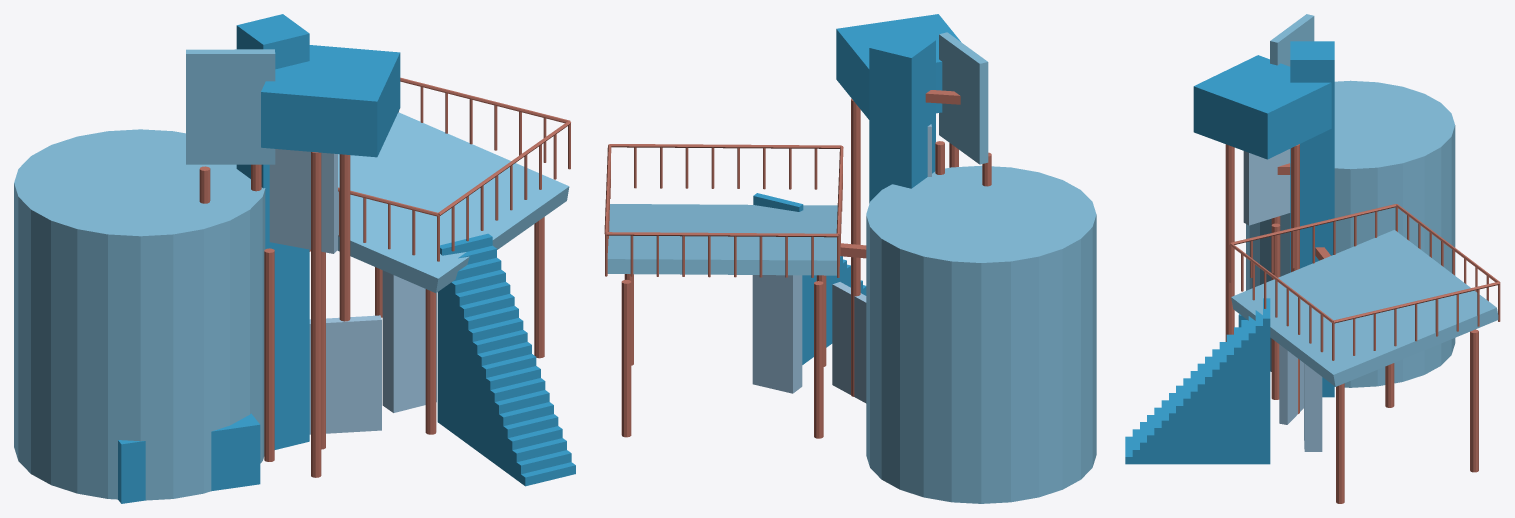
The model's file is folie_tag_031.glb.
3 renders of one model, left to right at view 1: azimuth 30°, elevation 25°; view 2: azimuth 150°, elevation 25°; view 3: azimuth 270°, elevation 25°, orthographic. The views are drawn at different scales.
Visible parts, largest first — view 1: folie_tag_031_00_drum, folie_tag_031_01_plate, folie_tag_031_stairs, folie_tag_031_line, folie_tag_031_03_block, folie_tag_031_core, folie_tag_031_05_panel, folie_tag_031_08_panel, folie_tag_031_04_fin, folie_tag_031_06_panel, folie_tag_031_02_block; view 2: folie_tag_031_00_drum, folie_tag_031_01_plate, folie_tag_031_line, folie_tag_031_core, folie_tag_031_04_fin, folie_tag_031_05_panel, folie_tag_031_03_block, folie_tag_031_08_panel, folie_tag_031_stairs; view 3: folie_tag_031_00_drum, folie_tag_031_01_plate, folie_tag_031_stairs, folie_tag_031_line, folie_tag_031_03_block, folie_tag_031_core, folie_tag_031_06_panel, folie_tag_031_04_fin, folie_tag_031_08_panel, folie_tag_031_05_panel.
Part boxes in pixels (x1,y1,x2,y2): folie_tag_031_00_drum: [14, 129, 265, 500]; folie_tag_031_01_plate: [338, 112, 569, 292]; folie_tag_031_stairs: [437, 233, 575, 486]; folie_tag_031_line: [199, 77, 570, 477]; folie_tag_031_03_block: [261, 45, 400, 157]; folie_tag_031_core: [236, 14, 309, 449]; folie_tag_031_05_panel: [186, 49, 275, 164]; folie_tag_031_08_panel: [309, 315, 381, 434]; folie_tag_031_04_fin: [382, 270, 436, 412]; folie_tag_031_06_panel: [269, 149, 337, 253]; folie_tag_031_02_block: [118, 413, 260, 503]; folie_tag_031_00_drum: [866, 165, 1096, 503]; folie_tag_031_01_plate: [607, 204, 841, 275]; folie_tag_031_line: [604, 90, 991, 438]; folie_tag_031_core: [869, 30, 935, 203]; folie_tag_031_04_fin: [752, 275, 802, 393]; folie_tag_031_05_panel: [939, 32, 988, 164]; folie_tag_031_03_block: [836, 14, 960, 119]; folie_tag_031_08_panel: [832, 282, 866, 403]; folie_tag_031_stairs: [753, 193, 866, 364]; folie_tag_031_00_drum: [1246, 80, 1455, 387]; folie_tag_031_01_plate: [1231, 230, 1498, 386]; folie_tag_031_stairs: [1125, 298, 1270, 464]; folie_tag_031_line: [1225, 144, 1500, 503]; folie_tag_031_03_block: [1193, 55, 1331, 159]; folie_tag_031_core: [1290, 41, 1334, 397]; folie_tag_031_06_panel: [1243, 149, 1290, 225]; folie_tag_031_04_fin: [1304, 363, 1322, 451]; folie_tag_031_08_panel: [1279, 344, 1303, 424]; folie_tag_031_05_panel: [1270, 14, 1314, 66].
Bounding box in the file's own units: 12.57 × 9.26 × 9.33.
